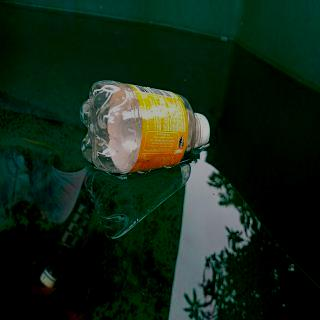bottle: (77, 77, 211, 176)
